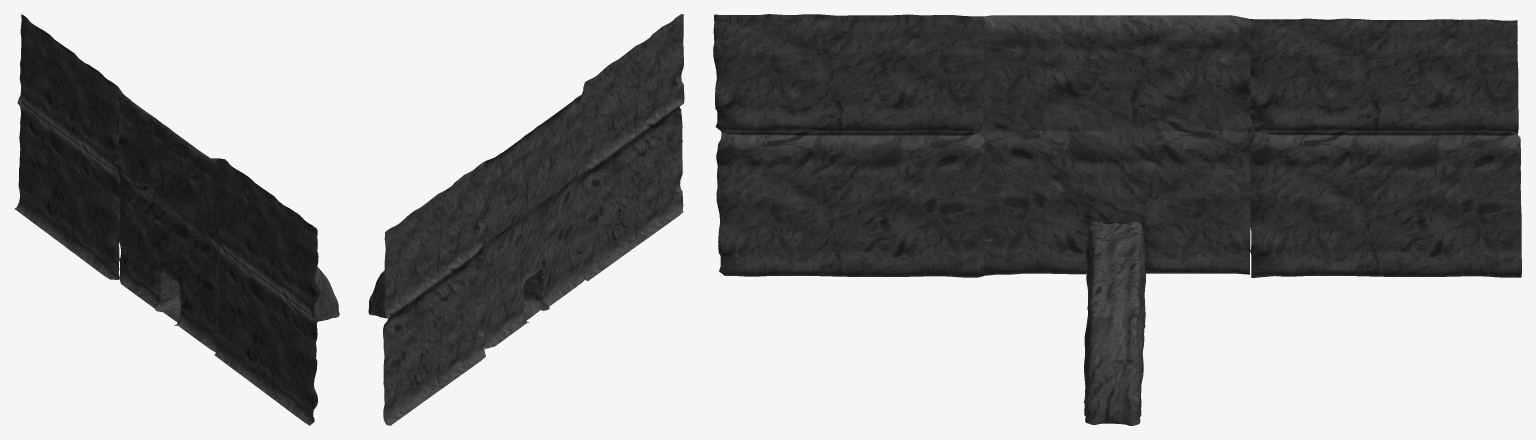
Rendered from StandardWall_003.FBX.
The picture shows the model from 3 angles, left to right: view 1: azimuth 30°, elevation 25°; view 2: azimuth 150°, elevation 25°; view 3: azimuth 270°, elevation 25°; orthographic projection. The views are drawn at different scales.
Visible parts, largest first — view 1: Object008; view 2: Object008; view 3: Object008.
Boxes of the visible parts, box(x1,y1,x2,y2) form: Object008: box(14, 14, 339, 425); Object008: box(368, 14, 684, 425); Object008: box(713, 14, 1521, 425).
Size of the model in its own units: 1876 by 2445 by 5847.
